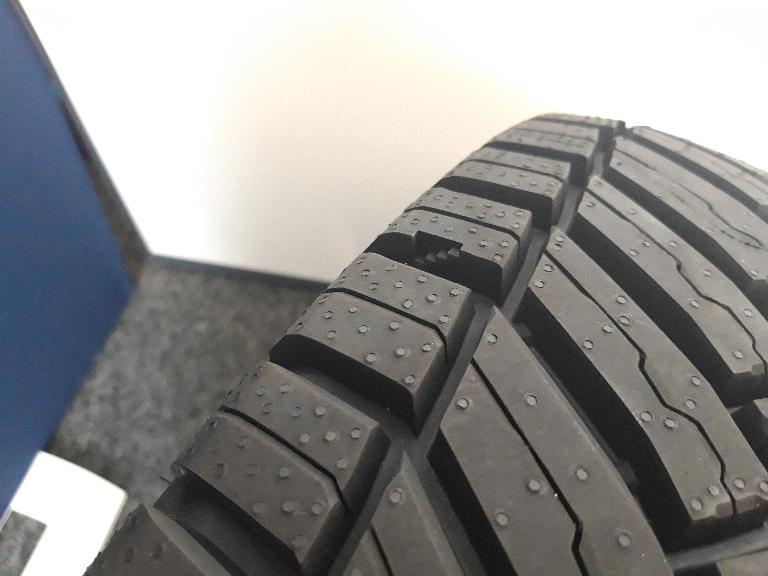temoin:100: (411, 230, 472, 288)
